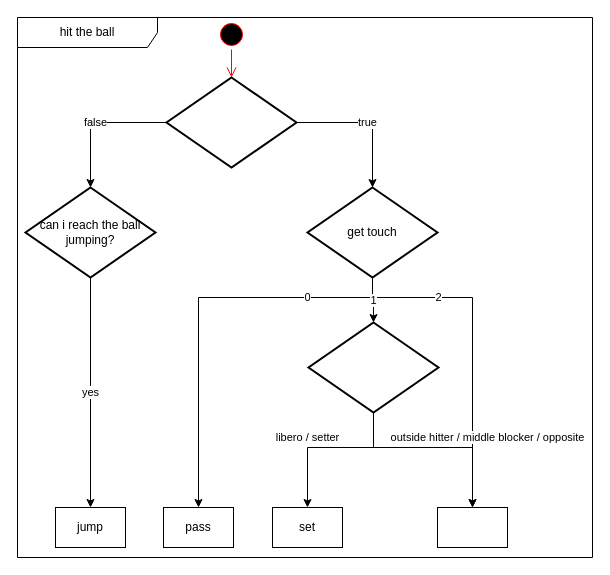
The diagram is 610 pixels wide and 575 high, and some of its shapes have lost their labels. The shapes that lost their labels are listed below. From the top down, each one's centre as x and y in pixels, then its label:
At pixel 231 122: "ball is reacheable?".
At pixel 373 367: "get role".
At pixel 472 527: "attack".
